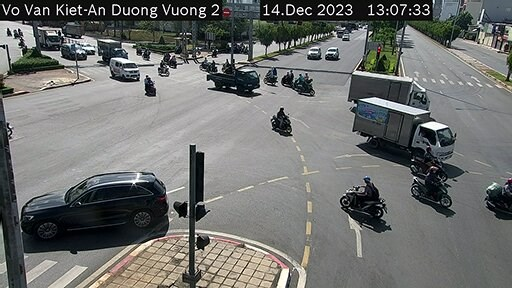car: (15, 175, 185, 251), (102, 58, 139, 85), (307, 41, 318, 62), (327, 43, 337, 60)
motorbike: (413, 169, 449, 211), (345, 179, 379, 218), (489, 180, 511, 220), (268, 108, 295, 129), (301, 71, 317, 101), (143, 77, 156, 97), (156, 62, 166, 76)
truck: (352, 90, 461, 166), (349, 65, 429, 109), (210, 63, 260, 97), (103, 36, 125, 61)
